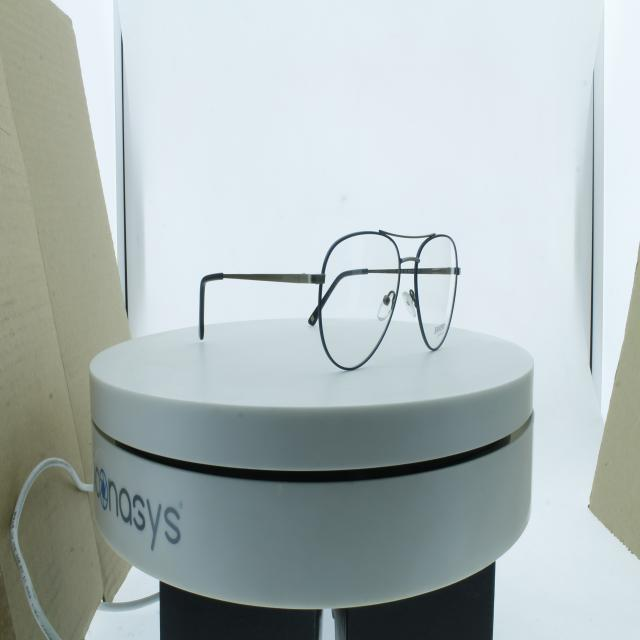Specs: (172, 198, 488, 384)
